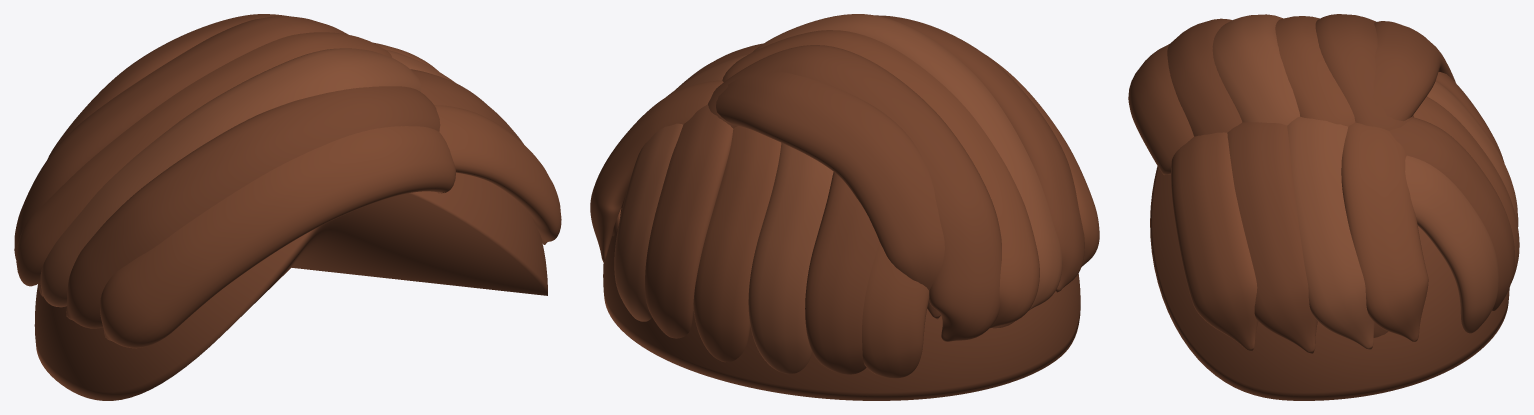
File: Masculine-sidepart-hair.glb
3 views of the same model, side by side, from view 1: azimuth 30°, elevation 25°; view 2: azimuth 150°, elevation 25°; view 3: azimuth 270°, elevation 25° (orthographic). The views are drawn at different scales.
Parts seen in each view (by area): view 1: Recessed roots, Hair / Side part main 0, Hair / Side part main 1, Hair / Side part main 2, Hair / Side part main 3, Hair / Side part main 4, Hair / Side part short 0, Hair / Side part crown, Hair / Side part short 1, Hair / Side part short 2; view 2: Hair / Side part crown, Recessed roots, Hair / Side part main 4, Hair / Side part nape 2, Hair / Side part nape 3, Hair / Side part main 3, Hair / Side part nape 4, Hair / Side part main 2, Hair / Side part nape 1, Hair / Side part main 1, Hair / Side part nape 0, Hair / Side part nape 5 (+4 smaller); view 3: Recessed roots, Hair / Side part short 3, Hair / Side part short 0, Hair / Side part short 1, Hair / Side part short 2, Hair / Side part nape 5, Hair / Side part main 2, Hair / Side part nape 4, Hair / Side part main 1, Hair / Side part crown, Hair / Side part main 4, Hair / Side part main 3 (+4 smaller).
Boxes of the visible parts, left/top/right/bottom form: Recessed roots: left=34, top=172, right=547, bottom=400; Hair / Side part main 0: left=100, top=126, right=455, bottom=348; Hair / Side part main 1: left=66, top=86, right=440, bottom=328; Hair / Side part main 2: left=40, top=48, right=420, bottom=307; Hair / Side part main 3: left=16, top=32, right=392, bottom=286; Hair / Side part main 4: left=14, top=16, right=347, bottom=259; Hair / Side part short 0: left=434, top=105, right=561, bottom=244; Hair / Side part crown: left=47, top=14, right=288, bottom=159; Hair / Side part short 1: left=411, top=69, right=523, bottom=143; Hair / Side part short 2: left=385, top=49, right=455, bottom=82; Hair / Side part crown: left=716, top=72, right=944, bottom=319; Recessed roots: left=603, top=197, right=1080, bottom=400; Hair / Side part main 4: left=708, top=45, right=1001, bottom=341; Hair / Side part nape 2: left=748, top=142, right=833, bottom=374; Hair / Side part nape 3: left=693, top=126, right=781, bottom=362; Hair / Side part main 3: left=722, top=30, right=1039, bottom=328; Hair / Side part nape 4: left=645, top=104, right=733, bottom=338; Hair / Side part main 2: left=752, top=14, right=1062, bottom=310; Hair / Side part nape 1: left=805, top=172, right=879, bottom=374; Hair / Side part main 1: left=875, top=15, right=1084, bottom=292; Hair / Side part nape 0: left=862, top=242, right=929, bottom=378; Hair / Side part nape 5: left=614, top=123, right=682, bottom=321; Recessed roots: left=1150, top=166, right=1509, bottom=400; Hair / Side part short 3: left=1341, top=122, right=1428, bottom=342; Hair / Side part short 0: left=1171, top=132, right=1258, bottom=351; Hair / Side part short 1: left=1227, top=122, right=1317, bottom=353; Hair / Side part short 2: left=1287, top=116, right=1374, bottom=349; Hair / Side part nape 5: left=1405, top=155, right=1498, bottom=333; Hair / Side part main 2: left=1212, top=14, right=1299, bottom=125; Hair / Side part nape 4: left=1389, top=117, right=1514, bottom=310; Hair / Side part main 1: left=1167, top=18, right=1242, bottom=136; Hair / Side part crown: left=1372, top=21, right=1455, bottom=121; Hair / Side part main 4: left=1315, top=14, right=1413, bottom=130; Hair / Side part main 3: left=1275, top=16, right=1355, bottom=126.
Bounding box in the file's own units: 0.9754 × 0.572 × 0.761.
